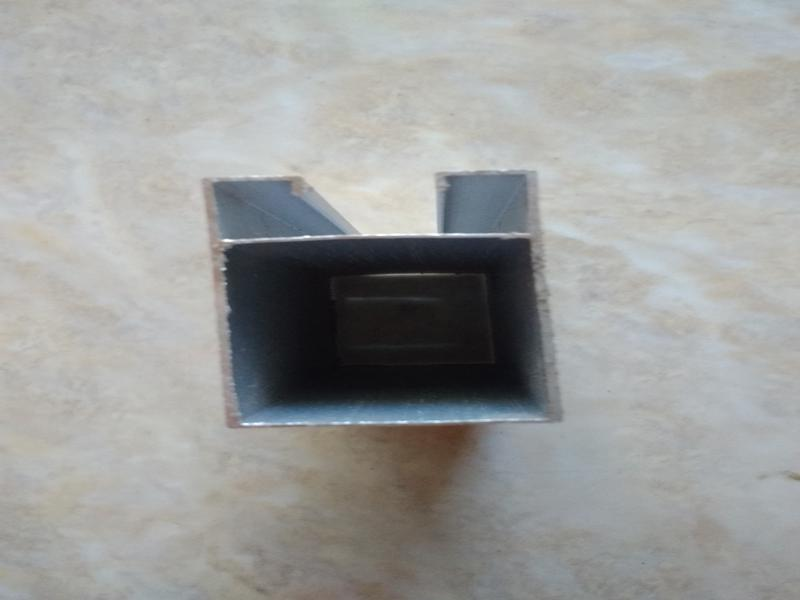Aluminium_1: (182, 148, 586, 438)
